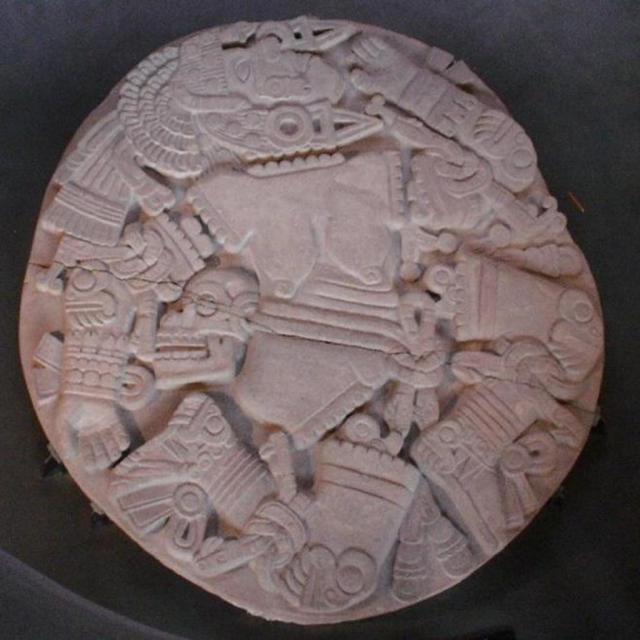Coin: (18, 14, 613, 627)
